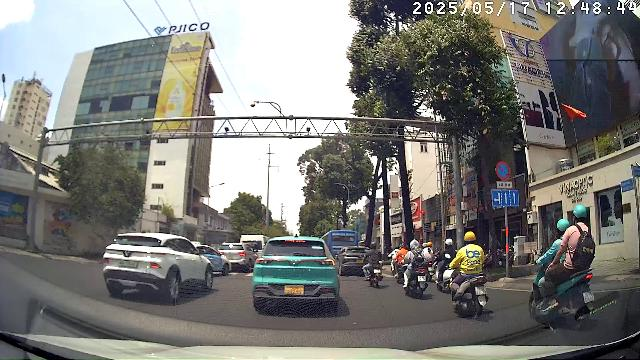131a-cam-do-xe: (495, 162, 511, 180)
